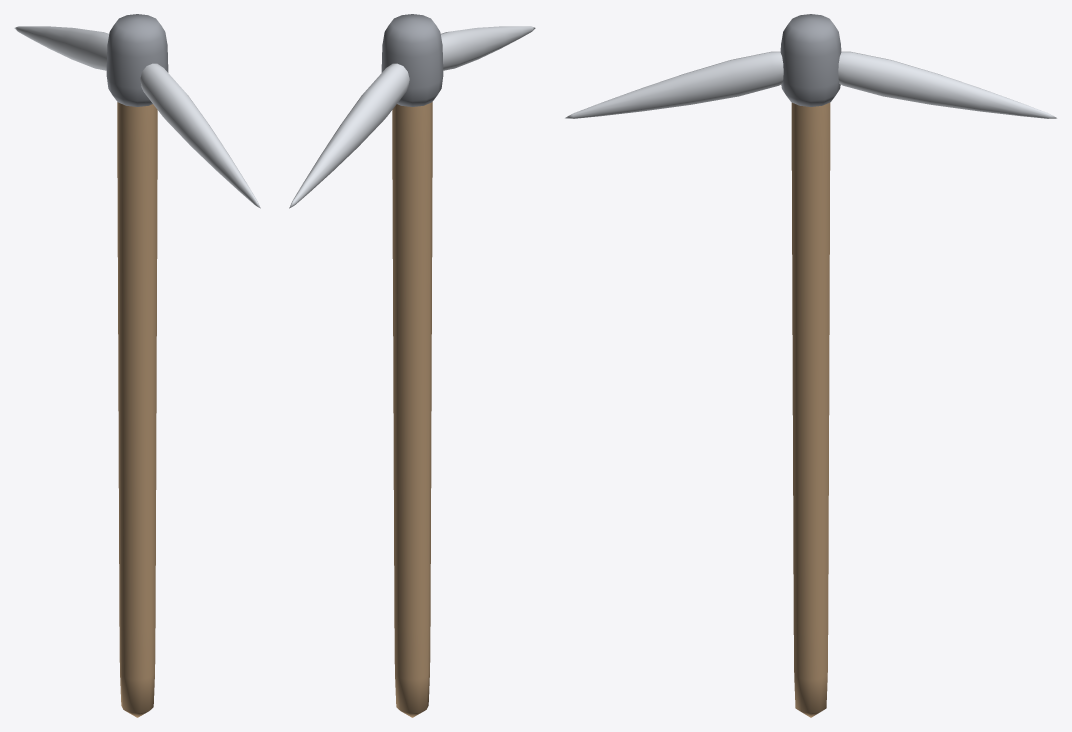
The model's file is pickaxe.glb.
The picture shows the model from 3 angles, left to right: view 1: azimuth 30°, elevation 25°; view 2: azimuth 150°, elevation 25°; view 3: azimuth 270°, elevation 25°; orthographic projection.
Parts seen in each view (by area): view 1: pickaxe; view 2: pickaxe; view 3: pickaxe.
Part boxes in pixels (x1=…): pickaxe: x1=14, y1=14, x2=260, y2=717; pickaxe: x1=289, y1=14, x2=535, y2=717; pickaxe: x1=565, y1=14, x2=1056, y2=717.
Bounding box in the file's own units: 0.0624 × 0.78 × 0.5.
